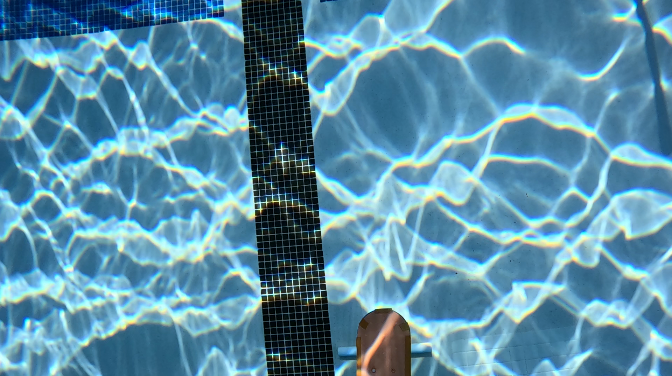pathmarker: (357, 307, 410, 375)
